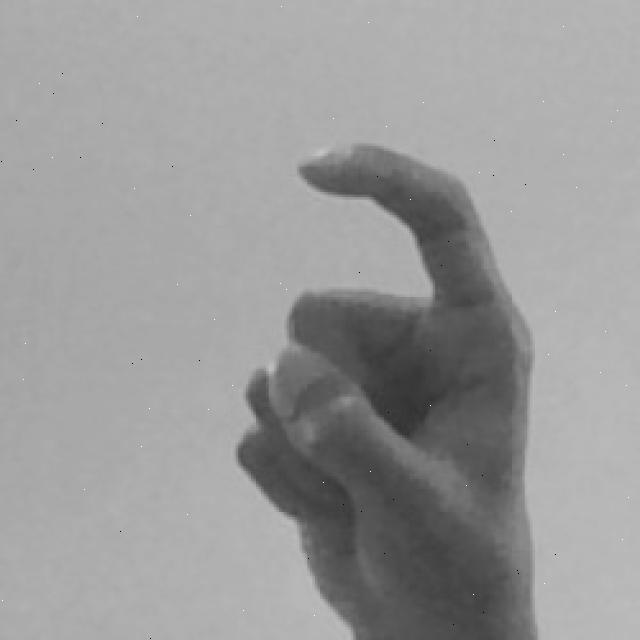X: (230, 135, 552, 640)
